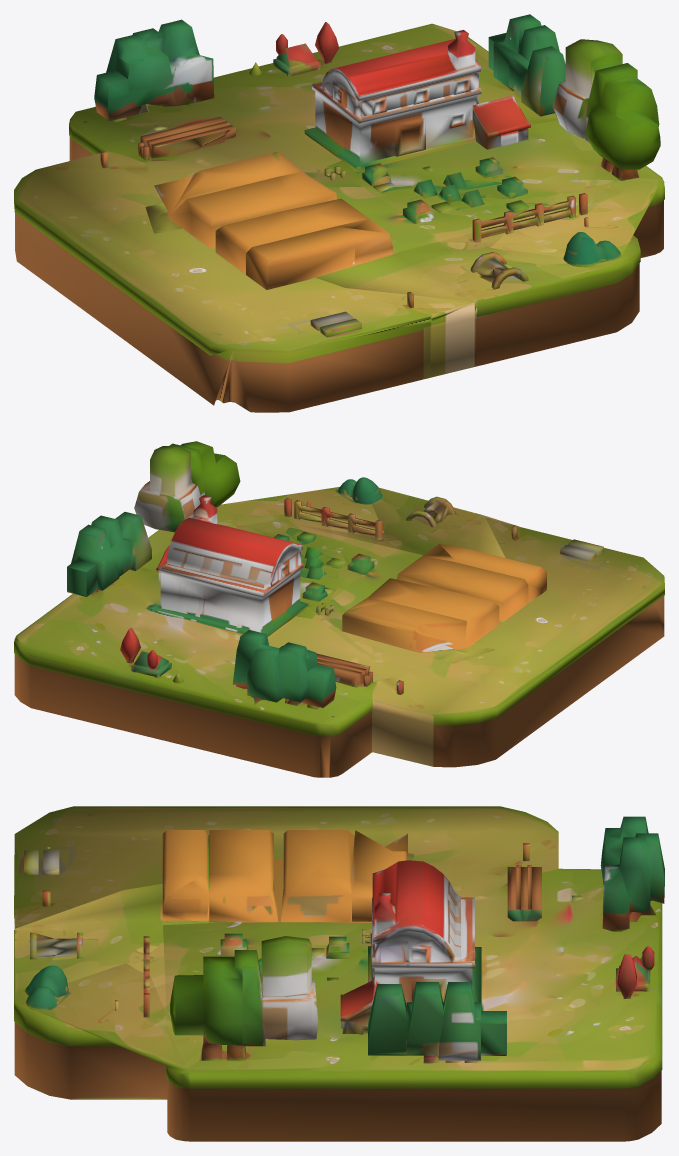
The model's file is farm.glb.
3 renders of one model, top to bottom at view 1: azimuth 30°, elevation 25°; view 2: azimuth 150°, elevation 25°; view 3: azimuth 270°, elevation 25°, orthographic. The views are drawn at different scales.
Parts seen in each view (by area): view 1: texture_pbr_v128; view 2: texture_pbr_v128; view 3: texture_pbr_v128.
Part boxes in pixels (<box>): texture_pbr_v128: <box>14,14,664,412</box>; texture_pbr_v128: <box>14,441,664,777</box>; texture_pbr_v128: <box>14,806,664,1141</box>.
Size of the model in its own units: 1.88 by 0.6066 by 1.9.
1 material, 1 textured.
